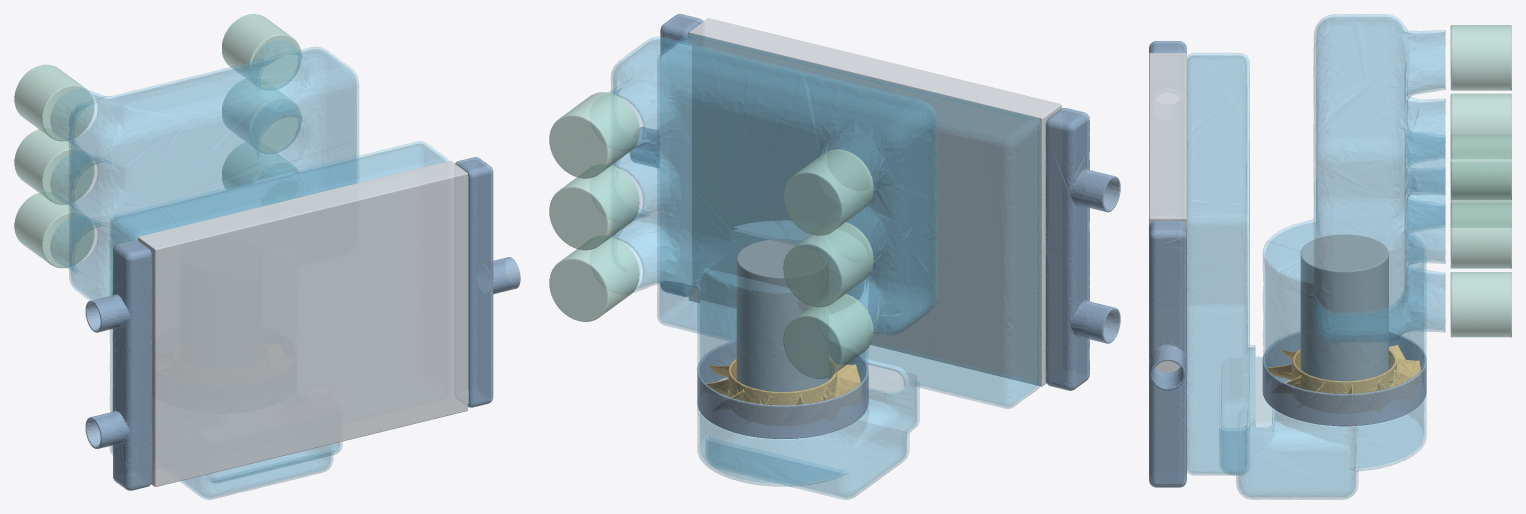
The model's file is assembly.glb.
The picture shows the model from 3 angles, left to right: view 1: azimuth 30°, elevation 25°; view 2: azimuth 150°, elevation 25°; view 3: azimuth 270°, elevation 25°; orthographic projection. The views are drawn at different scales.
Parts seen in each view (by area): view 1: intercooler-core-envelope, engine-shroud, intake-shroud, charge-inlet-header, charge-outlet-header, engine-envelope--1-240, engine-envelope-1-240, engine-envelope--1-120, engine-envelope--1-0, engine-envelope-1-120, engine-envelope-1-0; view 2: engine-shroud, intercooler-core-envelope, intake-shroud, charge-inlet-header, alternator-envelope, fan-housing, engine-envelope-1-240, engine-envelope--1-240, engine-envelope-1-120, engine-envelope--1-120, engine-envelope--1-0, engine-envelope-1-0 (+2 smaller); view 3: engine-shroud, intake-shroud, alternator-envelope, charge-outlet-header, fan-housing, intercooler-core-envelope, engine-envelope-1-240, engine-envelope--1-240, engine-envelope-1-0, engine-envelope-1-120, engine-envelope--1-120, engine-envelope--1-0 (+2 smaller).
Part boxes in pixels (x1,y1,x2,y2): intercooler-core-envelope: (138,160,467,486); engine-shroud: (50,40,358,300); intake-shroud: (110,141,448,499); charge-inlet-header: (85,240,151,490); charge-outlet-header: (455,157,520,407); engine-envelope--1-240: (14,64,94,141); engine-envelope-1-240: (222,14,301,90); engine-envelope--1-120: (14,128,94,204); engine-envelope--1-0: (14,192,94,268); engine-envelope-1-120: (222,79,301,153); engine-envelope-1-0: (222,142,298,206); engine-shroud: (608,37,938,405); intercooler-core-envelope: (688,18,1061,386); intake-shroud: (657,33,1041,499); charge-inlet-header: (1045,108,1120,390); alternator-envelope: (736,239,828,391); fan-housing: (697,340,868,438); engine-envelope-1-240: (549,92,639,178); engine-envelope--1-240: (783,149,873,235); engine-envelope-1-120: (549,164,639,250); engine-envelope--1-120: (783,221,873,307); engine-envelope--1-0: (783,293,873,378); engine-envelope-1-0: (549,236,639,321); engine-shroud: (1262,14,1445,393); intake-shroud: (1187,53,1426,499); alternator-envelope: (1300,234,1388,381); charge-outlet-header: (1149,220,1186,487); fan-housing: (1262,331,1426,426); intercooler-core-envelope: (1149,53,1186,372); engine-envelope-1-240: (1450,134,1511,199); engine-envelope--1-240: (1450,25,1511,90); engine-envelope-1-0: (1450,272,1511,337); engine-envelope-1-120: (1450,203,1511,268); engine-envelope--1-120: (1450,93,1511,158); engine-envelope--1-0: (1450,163,1511,227).
Size of the model in its own units: 0.83 by 0.6881 by 0.575.
